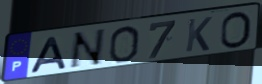7: (147, 19, 178, 60)
A: (27, 35, 69, 75)
K: (183, 15, 214, 54)
N: (67, 27, 108, 71)
O: (107, 24, 142, 65), (218, 10, 252, 51)
